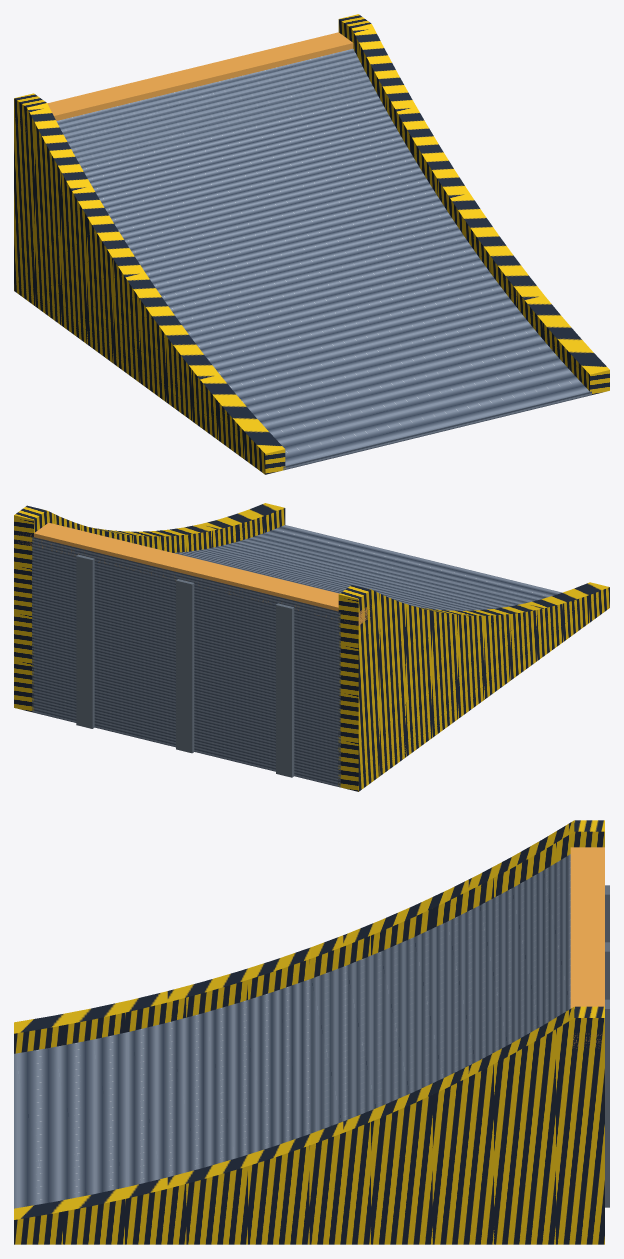
Rendered from ramp_double_stunt.glb.
The picture shows the model from 3 angles, top to bottom: view 1: azimuth 30°, elevation 25°; view 2: azimuth 150°, elevation 25°; view 3: azimuth 270°, elevation 25°; orthographic projection. The views are drawn at different scales.
Parts seen in each view (by area): view 1: ramp_double_stunt; view 2: ramp_double_stunt; view 3: ramp_double_stunt.
Part boxes in pixels (x1,y1,x2,y2): ramp_double_stunt: (14,14,609,474); ramp_double_stunt: (14,503,609,791); ramp_double_stunt: (14,820,609,1244).
Size of the model in its own units: 3.8 by 2.03 by 4.84.
Materials: 4 (2 with a texture image).
